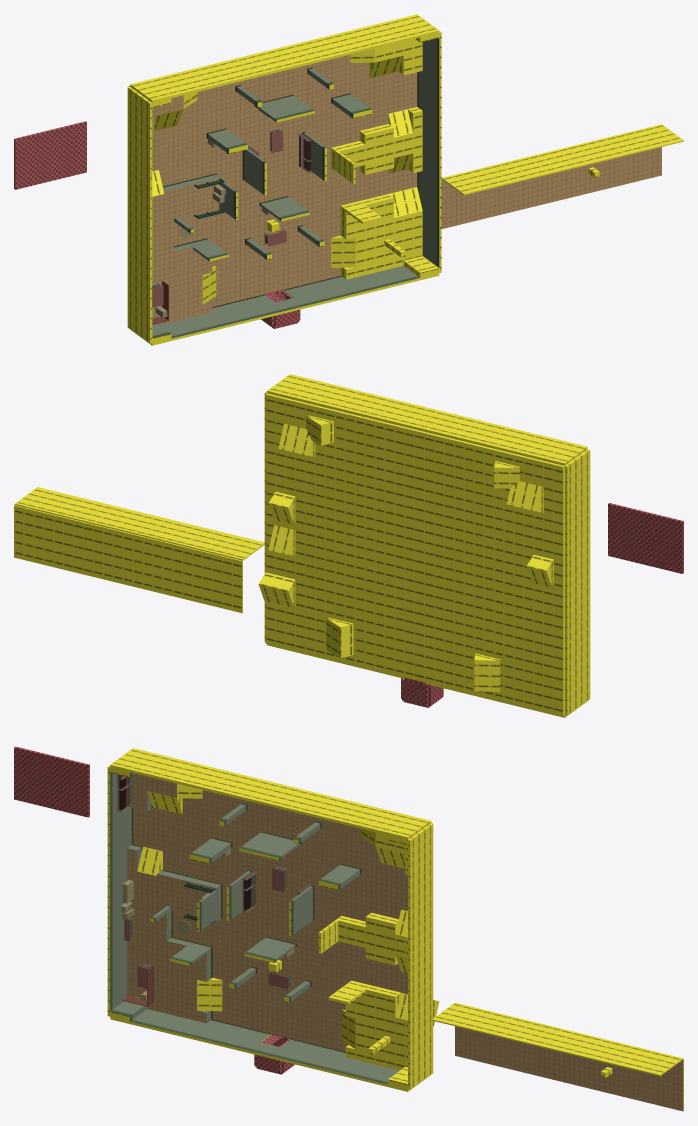
3 views of the same model, one above another, from view 1: azimuth 30°, elevation 25°; view 2: azimuth 150°, elevation 25°; view 3: azimuth 330°, elevation 25° (orthographic). The views are drawn at different scales.
Visible parts, largest first — view 1: arena_01; view 2: arena_01; view 3: arena_01.
Part boxes in pixels (x1=…): arena_01: x1=14, y1=14, x2=683, y2=345; arena_01: x1=14, y1=374, x2=683, y2=717; arena_01: x1=14, y1=746, x2=683, y2=1111.
Size of the model in its own units: 432 by 171 by 36.
Materials: 33 (33 with a texture image).
